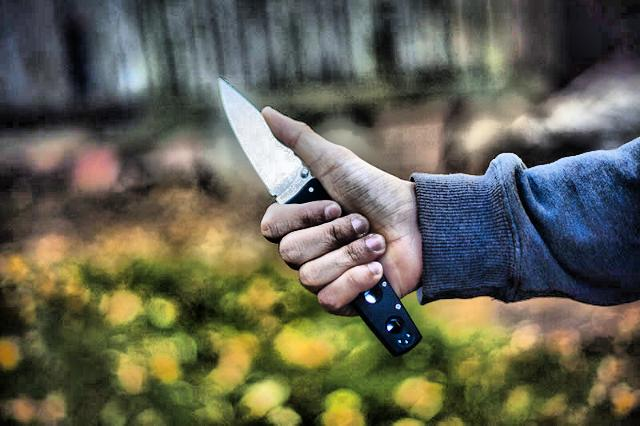knife: (208, 68, 372, 268)
